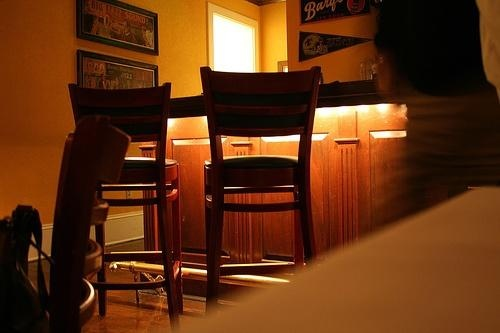chair: (200, 63, 324, 319), (66, 82, 185, 330)
